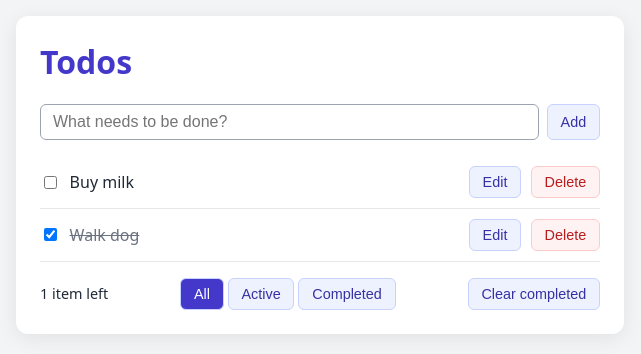
Test: TodoApp › filters todos
The width and height of the screenshot is (641, 354).
Check: the text "Buy milk" is shown, box [70,171,134,193]
Click the button "Active" at (261, 294), box [228,278,294,310]
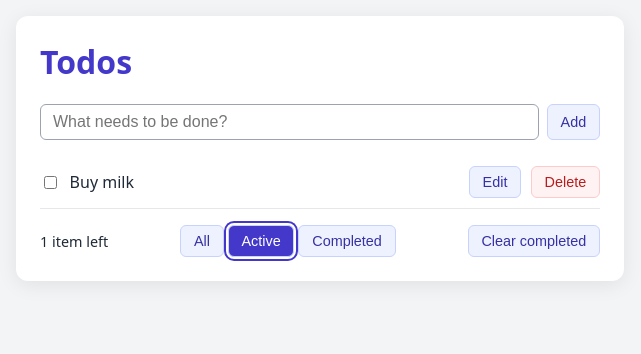
Check: the text "Buy milk" is shown, box [70,171,134,193]
Check: the text "Walk dog" is gone
Click the button "Completed" at (347, 241), box [298,225,396,257]
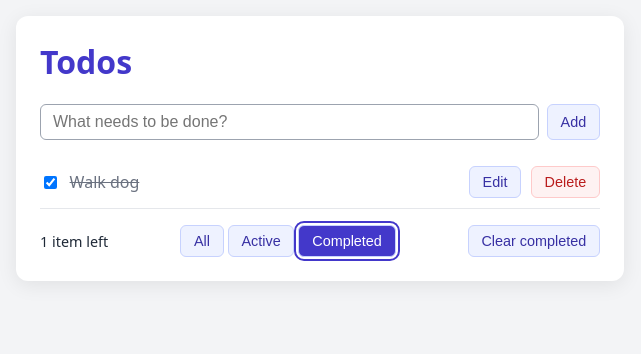
Check: the text "Buy milk" is gone
Check: the text "Walk dog" is shown, box [70,171,139,193]
